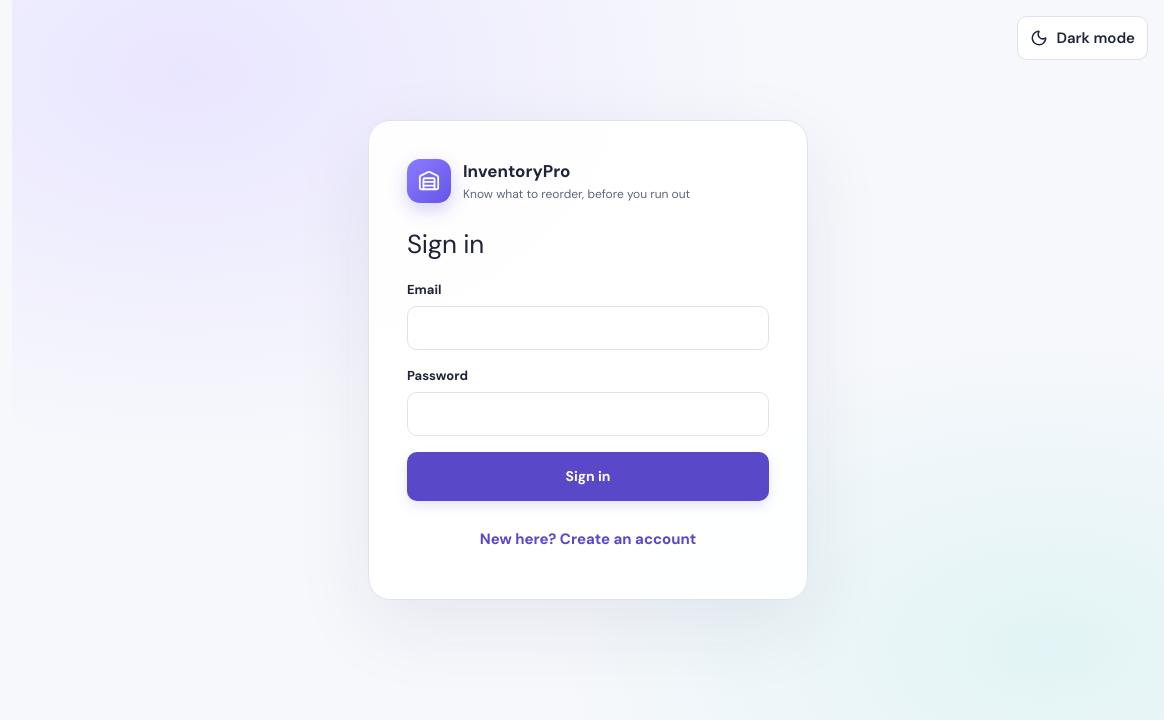
Test case: LoginPage registration › creates a Staff account with a compliant password and signs in
This screenshot has width=1164, height=720.
Click the button "New here? Create an account".
click(588, 539)  # box [407,517,769,561]
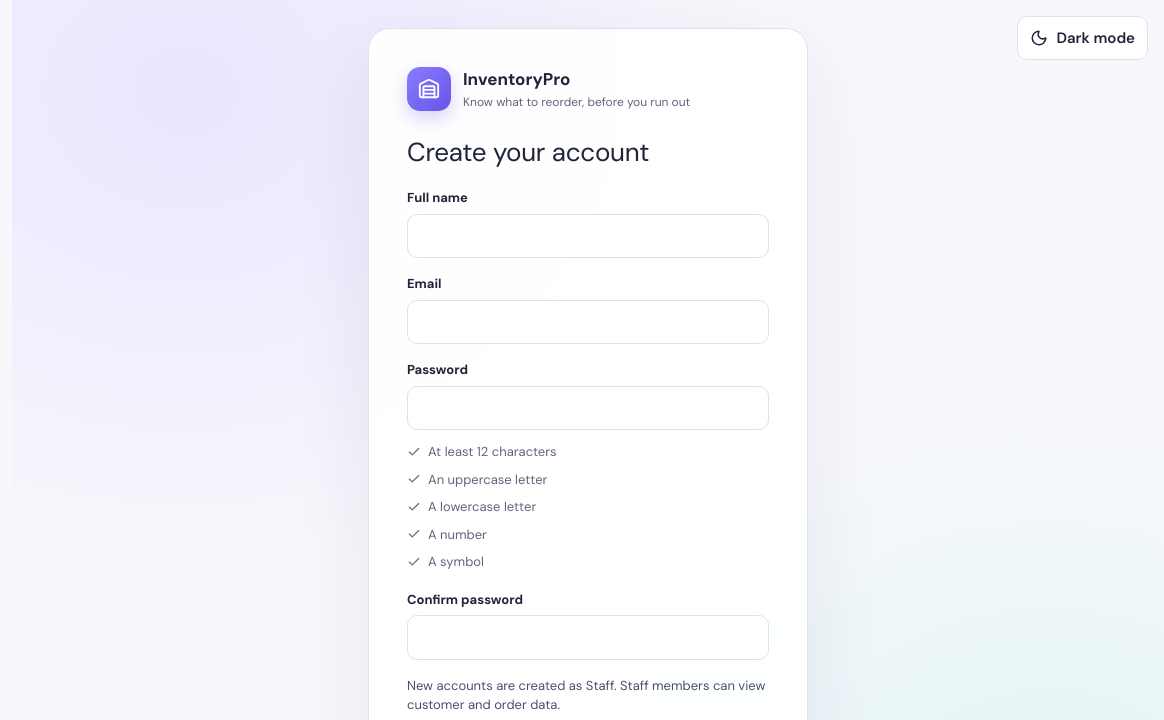
expect the text "New accounts are created as Staff. Staff members can view customer and order data." is shown: met, box [407,676,765,713]
Type "New Staff Member" into the field labelled "Full name".
click(588, 236); type("New Staff Member")  # box [407,214,769,258]
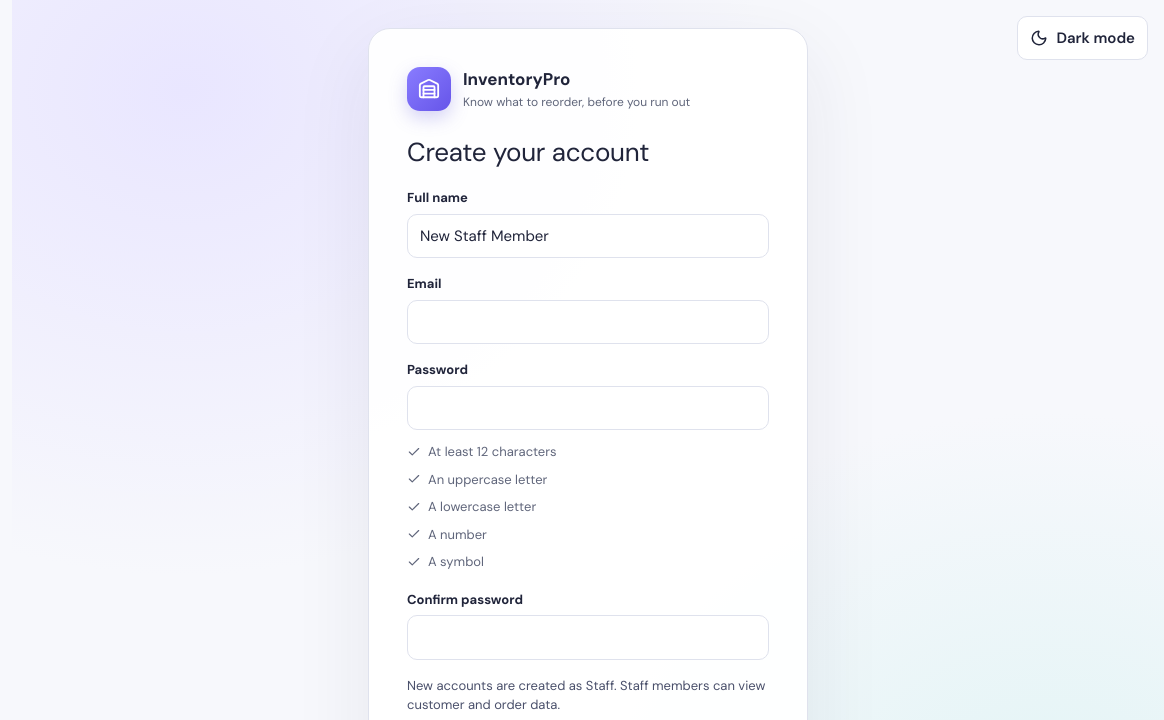
Type "staff@example.test" into the field labelled "Email".
click(588, 322); type("staff@example.test")  # box [407,300,769,344]
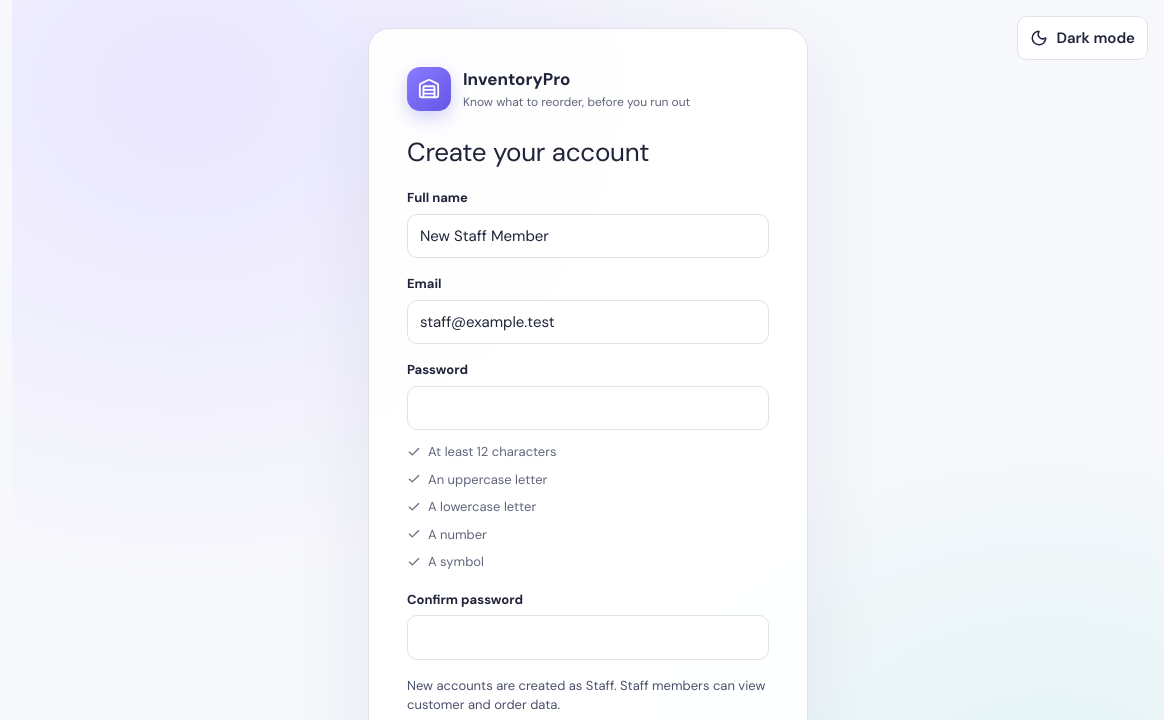
Type "StrongPass!2026" into the password field labelled "Password".
click(588, 408); type("StrongPass!2026")  # box [407,386,769,430]
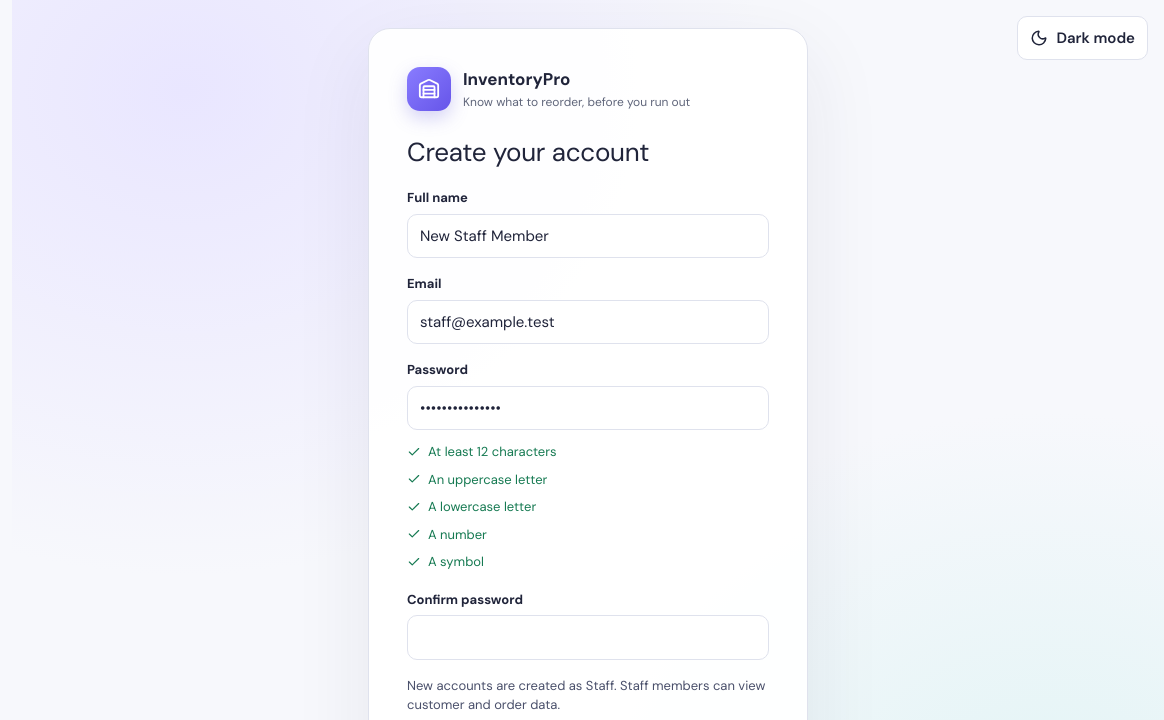
Type "StrongPass!2026" into the password field labelled "Confirm password".
click(588, 637); type("StrongPass!2026")  # box [407,615,769,660]
(page scrolled)
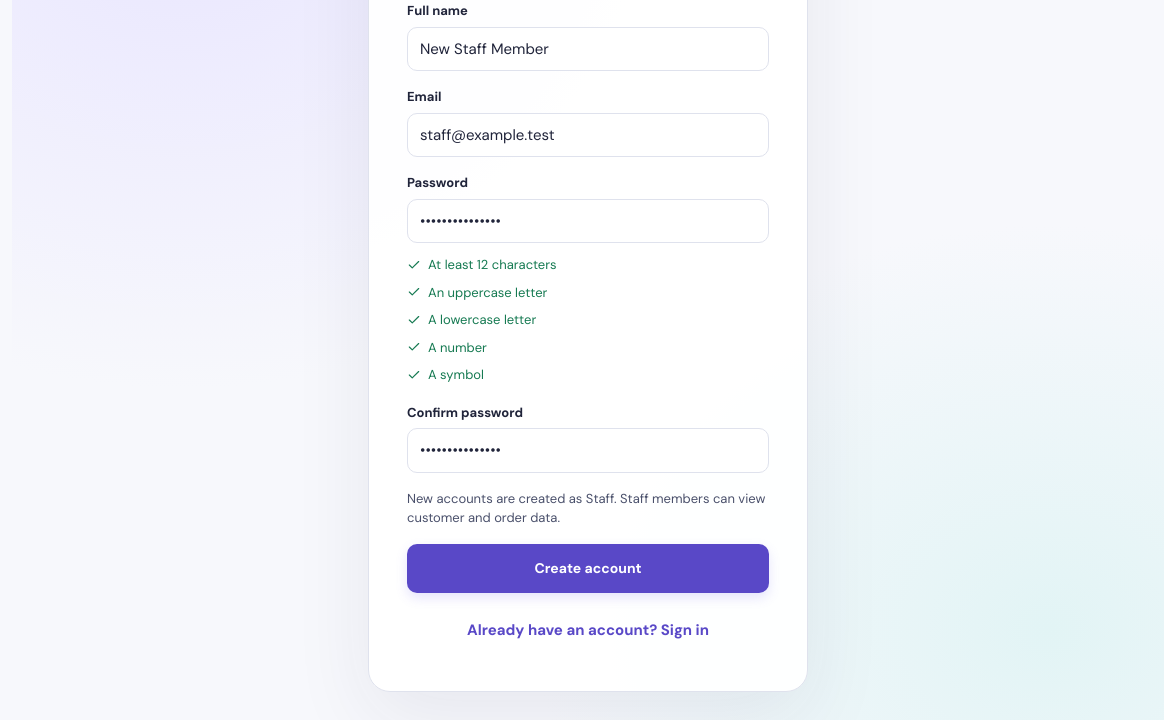
Click the button "Create account".
click(588, 568)  # box [407,544,769,592]
(page scrolled)
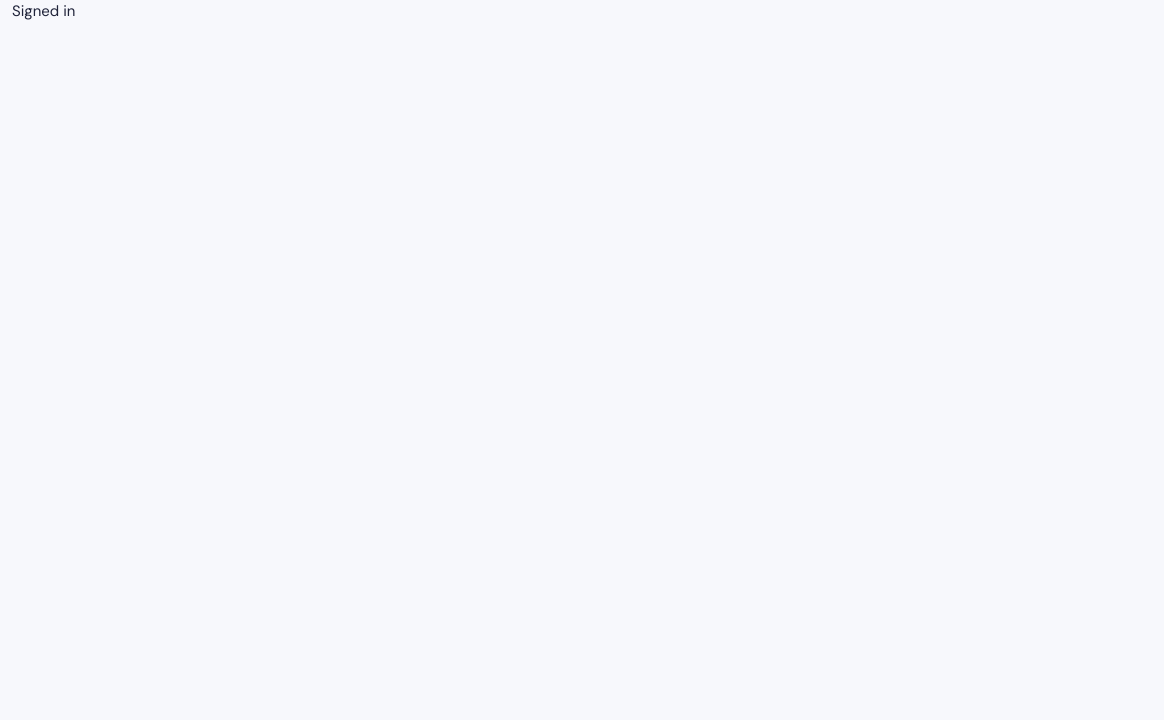
expect the text "Signed in" is shown: met, box [12,1,75,21]
